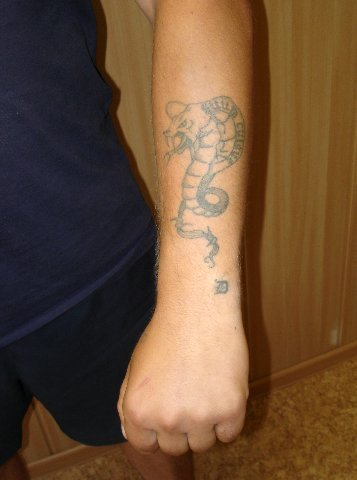tatu7_zmeya: (160, 61, 243, 272)
